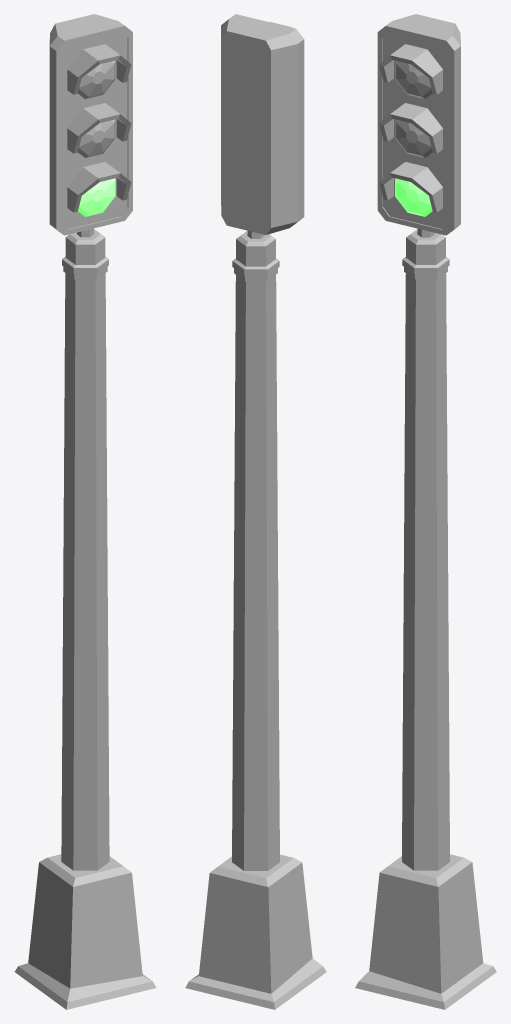
Rendered from SM_Envr_Road_Props_TrafficSignal_Small.fbx.
The picture shows the model from 3 angles, left to right: view 1: azimuth 30°, elevation 25°; view 2: azimuth 150°, elevation 25°; view 3: azimuth 330°, elevation 25°; orthographic projection.
Parts seen in each view (by area): view 1: SM_Envr_Road_Props_TrafficSignal_Small; view 2: SM_Envr_Road_Props_TrafficSignal_Small; view 3: SM_Envr_Road_Props_TrafficSignal_Small.
Part boxes in pixels (box(x1,y1,x2,y2)): SM_Envr_Road_Props_TrafficSignal_Small: box(14, 14, 156, 1009); SM_Envr_Road_Props_TrafficSignal_Small: box(185, 14, 326, 1009); SM_Envr_Road_Props_TrafficSignal_Small: box(355, 14, 496, 1009).
Bounding box in the file's own units: 45.49 × 460 × 45.49.
